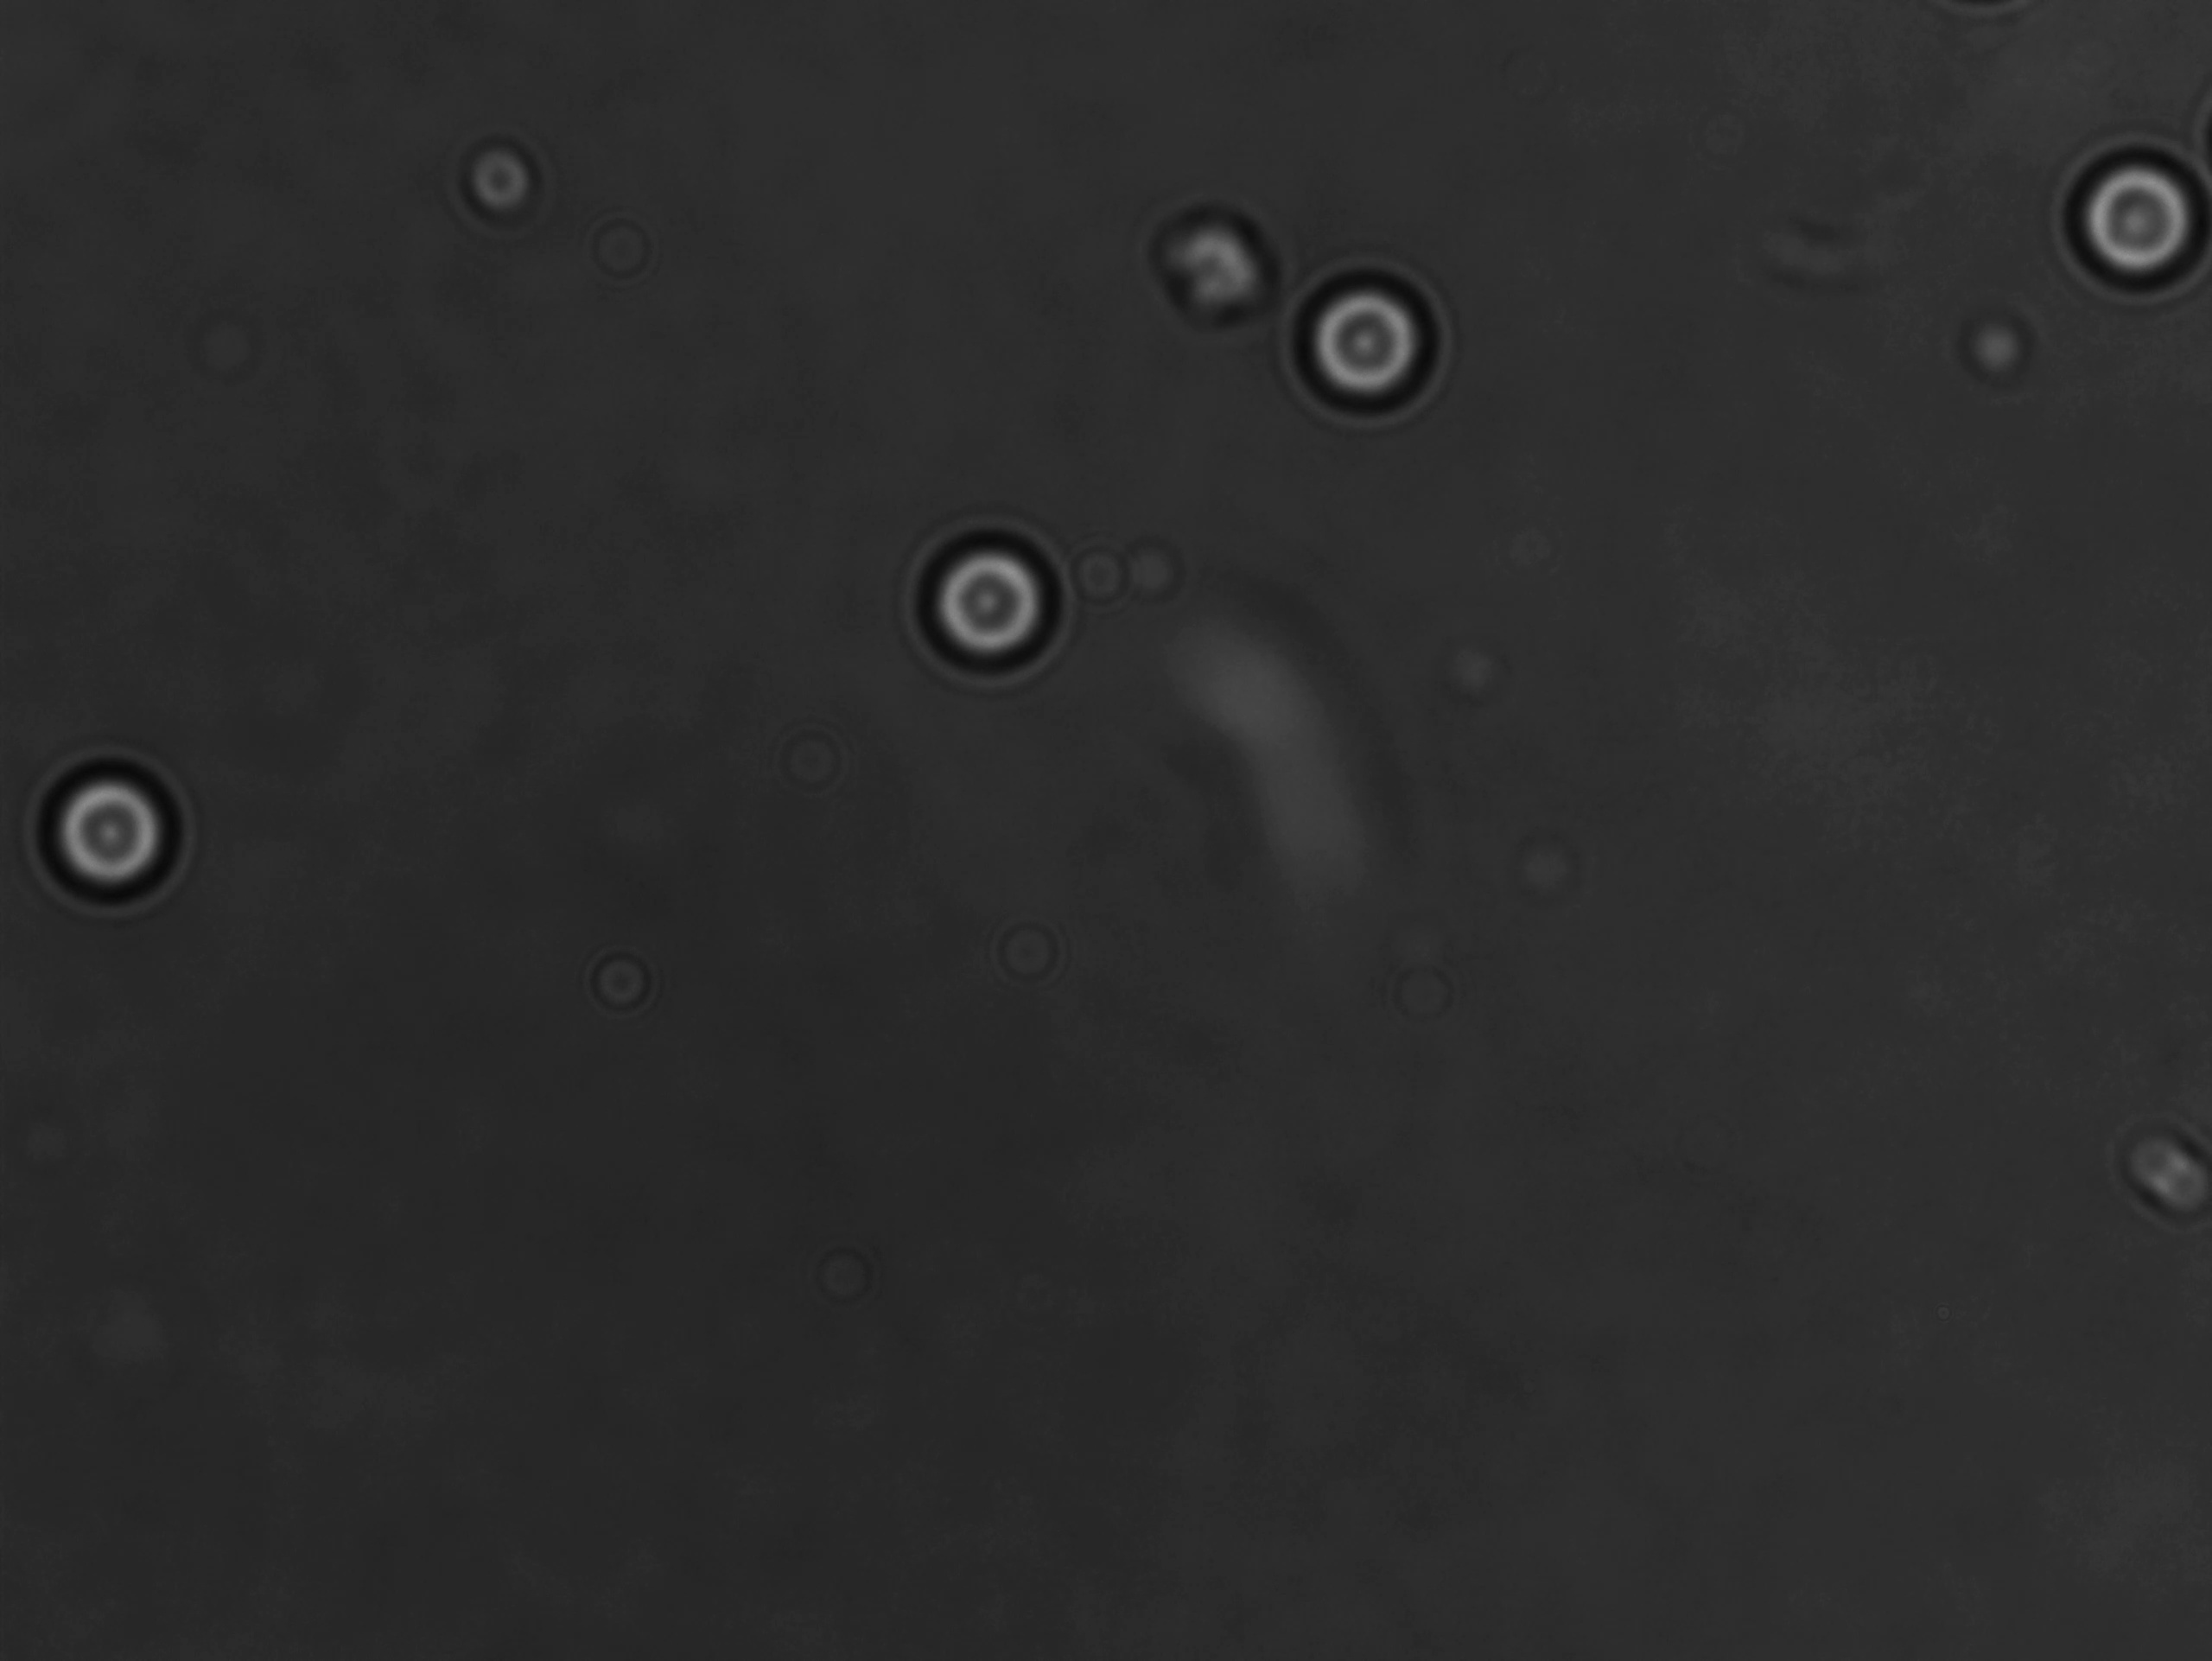depth:40: (2034, 141, 2212, 325), (902, 509, 1078, 675), (1277, 263, 1446, 433), (35, 755, 185, 904)
